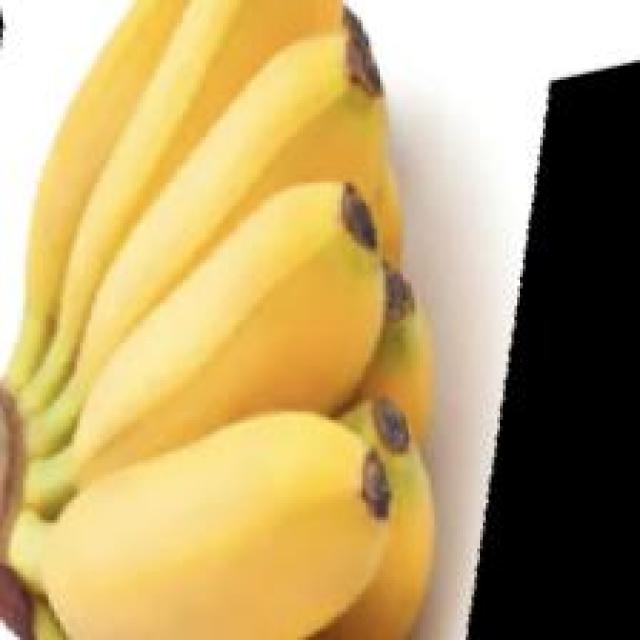bananas: (1, 0, 457, 615)
